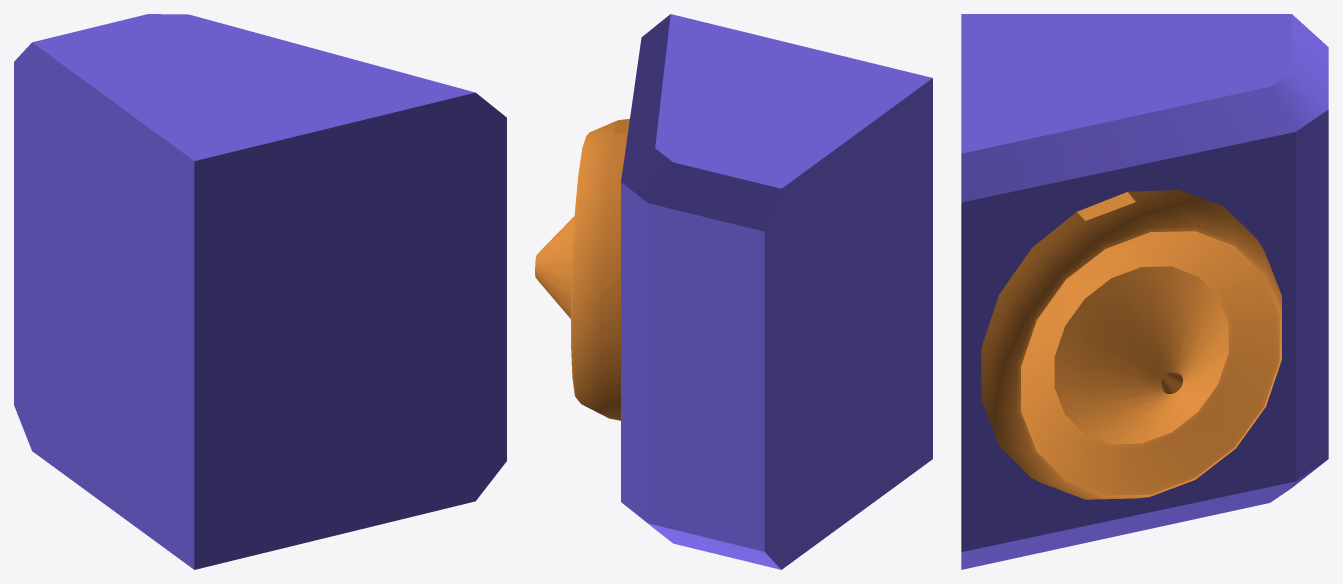
The model's file is SM_Fan_25x20.fbx.
3 renders of one model, left to right at view 1: azimuth 30°, elevation 25°; view 2: azimuth 150°, elevation 25°; view 3: azimuth 270°, elevation 25°, orthographic. The views are drawn at different scales.
Visible parts, largest first — view 1: SM_Fan_25x20:Fan_25x20; view 2: SM_Fan_25x20:Fan_25x20, SM_Fan_25x20:Fanx20x20; view 3: SM_Fan_25x20:Fan_25x20, SM_Fan_25x20:Fanx20x20.
Boxes of the visible parts, box(x1,y1,x2,y2) form: SM_Fan_25x20:Fan_25x20: box(14, 14, 506, 569); SM_Fan_25x20:Fan_25x20: box(621, 14, 932, 569); SM_Fan_25x20:Fanx20x20: box(535, 118, 629, 420); SM_Fan_25x20:Fan_25x20: box(961, 14, 1328, 569); SM_Fan_25x20:Fanx20x20: box(981, 190, 1281, 499).
Bounding box in the file's own units: 21.4 × 25 × 20.
